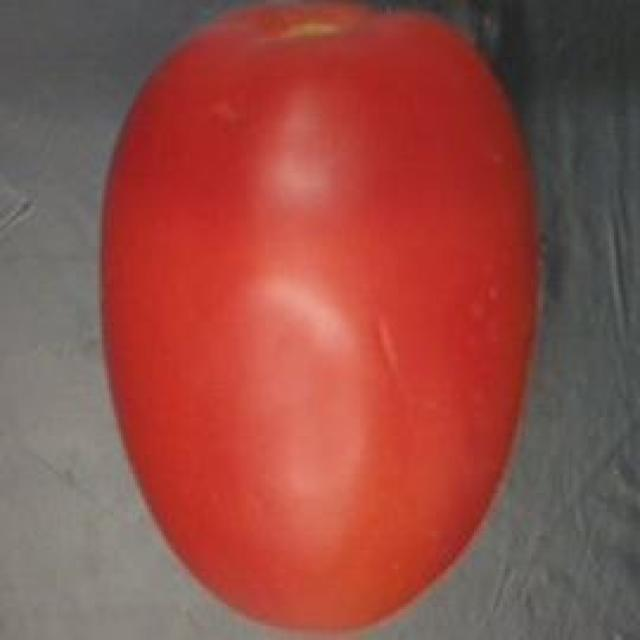ripe tomato: (87, 4, 554, 640)
